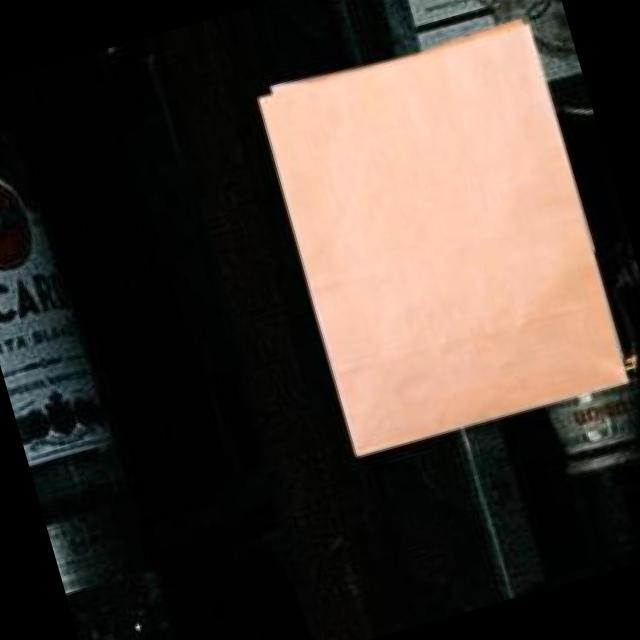Kardus: (247, 8, 636, 464)
